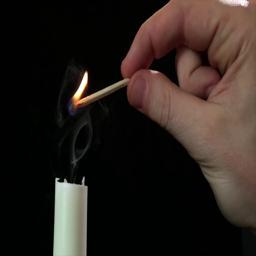fire: (72, 71, 89, 101)
